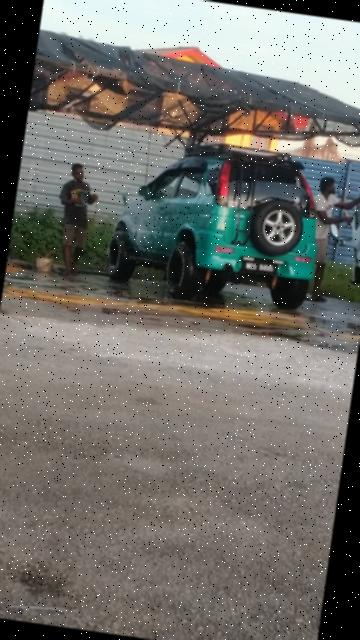License_Plate: (241, 255, 279, 280)
car: (102, 128, 333, 316)
